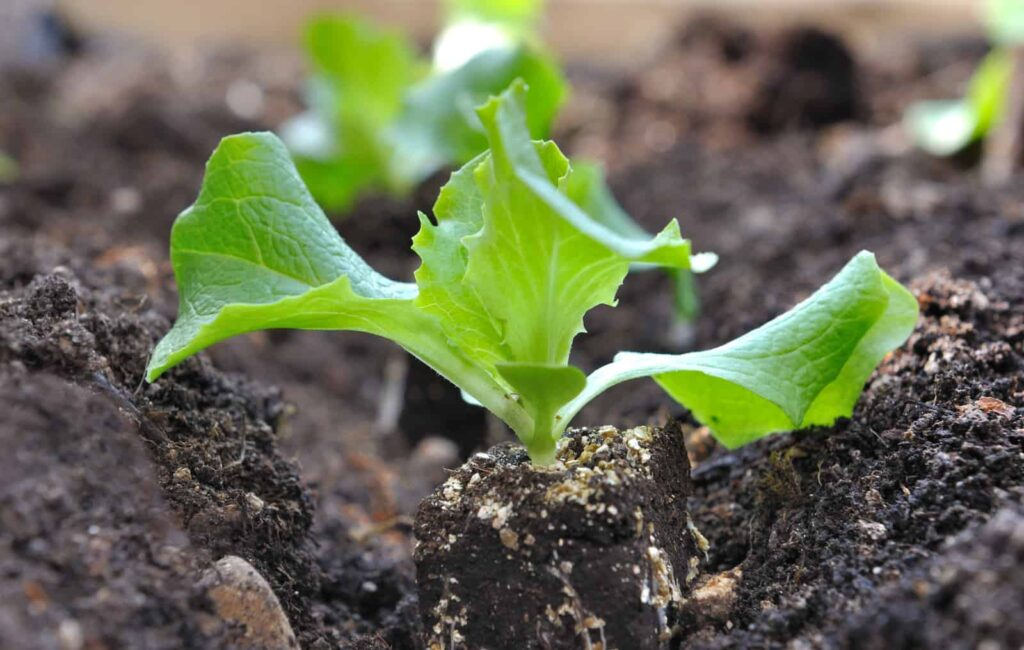lettuce: (221, 83, 916, 577)
